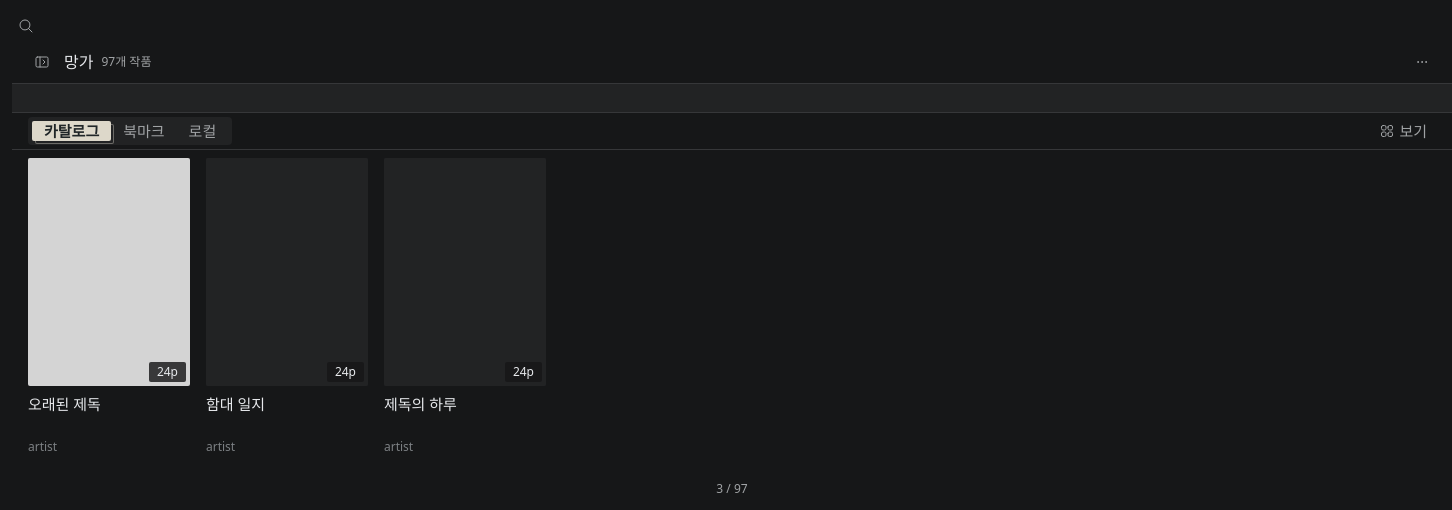
OnlineCatalogBrowser › does not toast when an update is already current
Click the button named "카탈로그 더보기".
click(1422, 62)  # box [1408,46,1436,78]
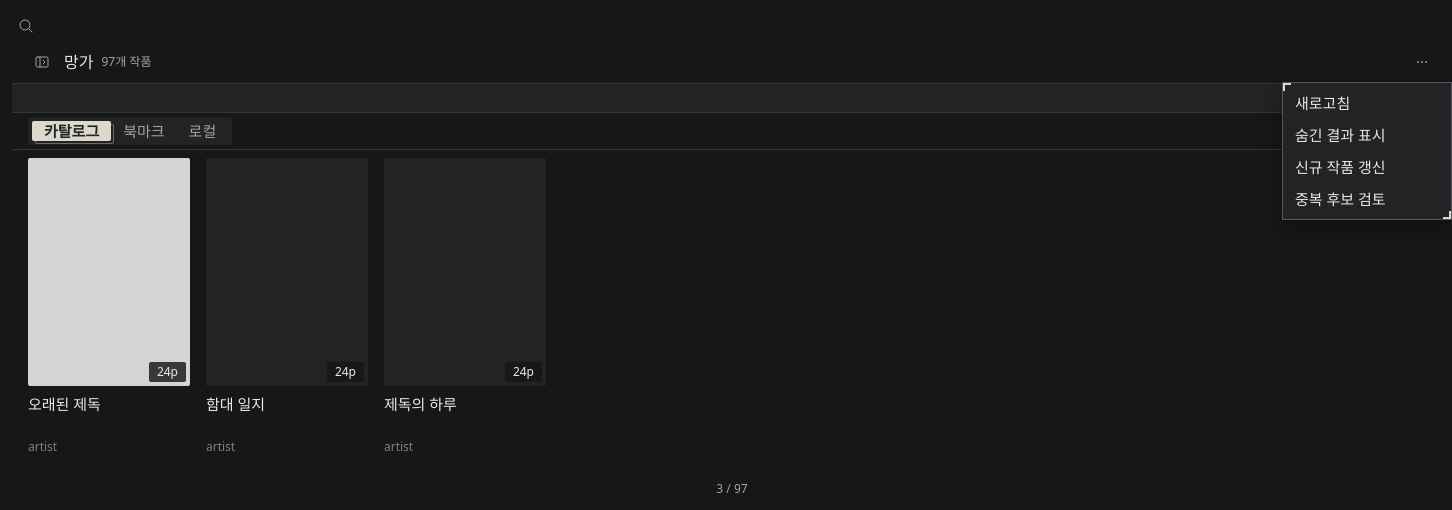
Click the menu item "신규 작품 갱신".
click(1367, 167)  # box [1287,151,1447,183]
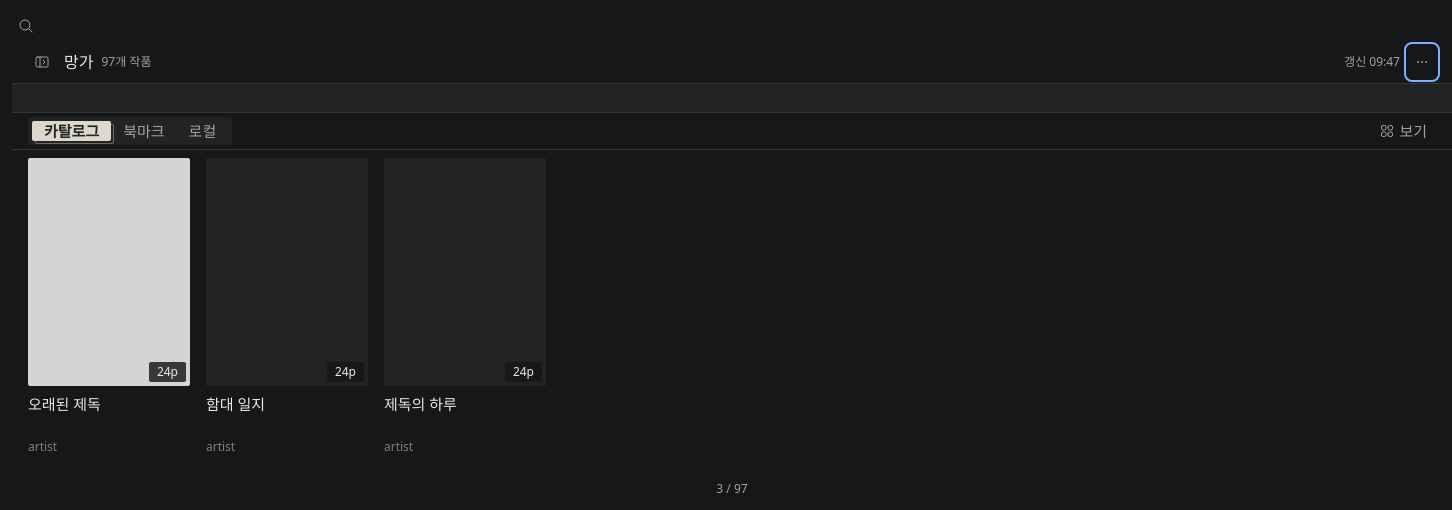
expect the text "갱신 09:47" is shown: met, box [1344,52,1400,72]
